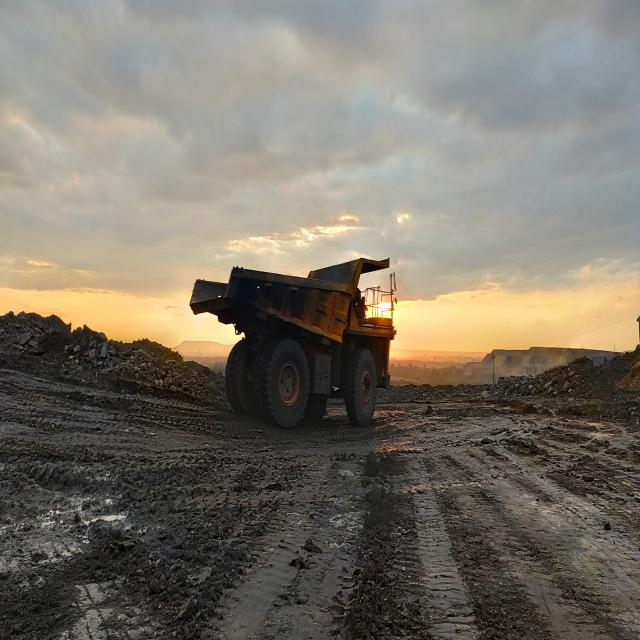dump_truck: (191, 258, 396, 424)
